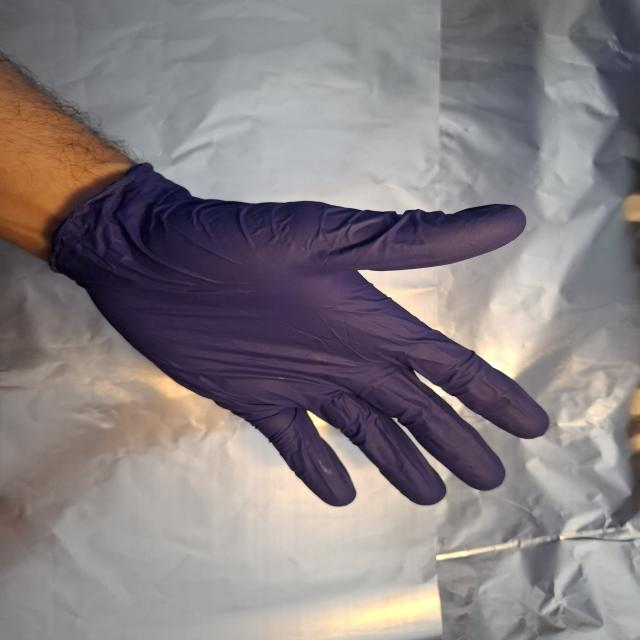glove_on: (47, 159, 555, 511)
